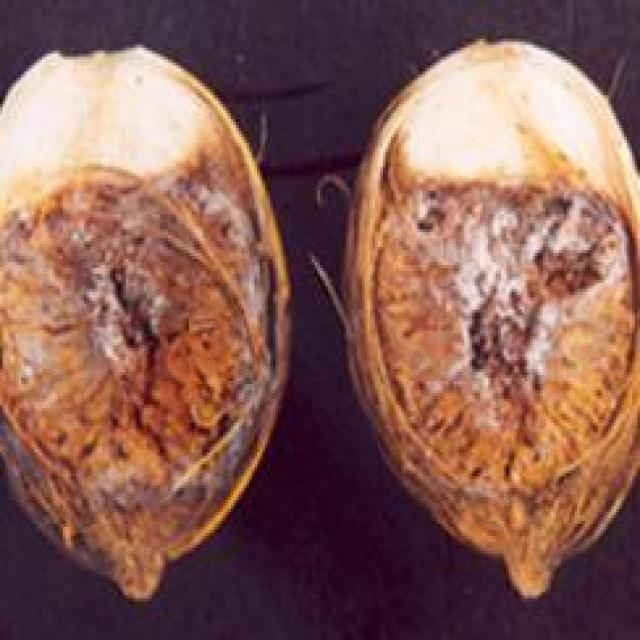damaged: (341, 39, 637, 604), (0, 45, 294, 607)
